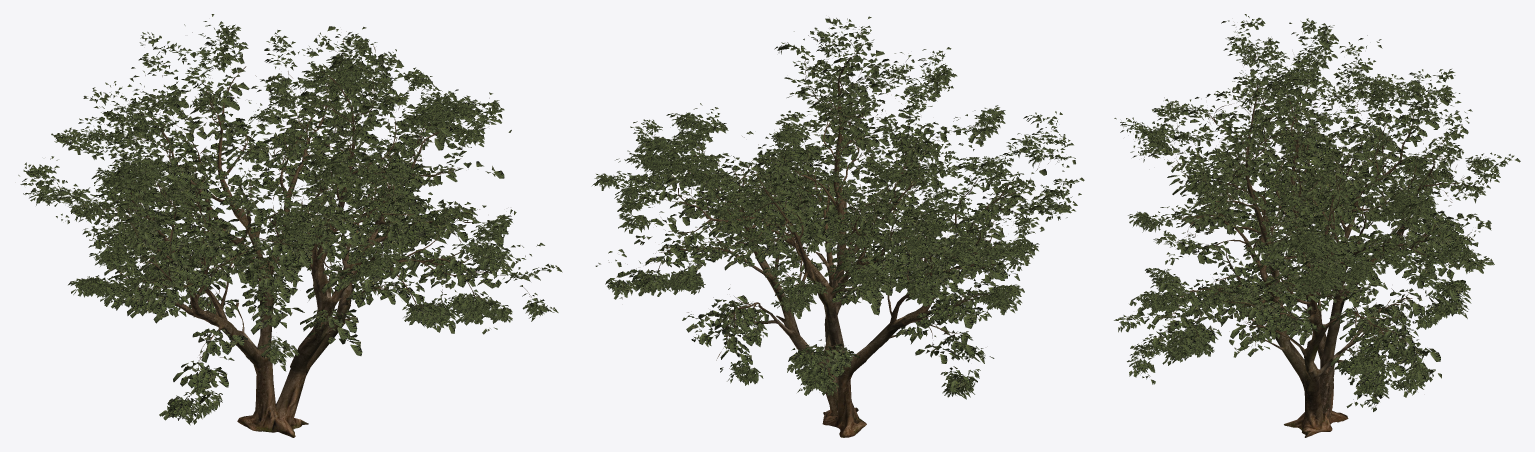
Rendered from jacaranda_tree.glb.
3 views of the same model, side by side, from view 1: azimuth 30°, elevation 25°; view 2: azimuth 150°, elevation 25°; view 3: azimuth 270°, elevation 25° (orthographic). The views are drawn at different scales.
Visible parts, largest first — view 1: jacaranda_tree_LOD0; view 2: jacaranda_tree_LOD0; view 3: jacaranda_tree_LOD0.
Boxes of the visible parts, left/top/right/bottom form: jacaranda_tree_LOD0: left=18, top=14, right=562, bottom=437; jacaranda_tree_LOD0: left=592, top=16, right=1084, bottom=437; jacaranda_tree_LOD0: left=1114, top=14, right=1520, bottom=437.
Size of the model in its own units: 24.16 by 19.33 by 19.05.
Materials: 3 (3 with a texture image).
